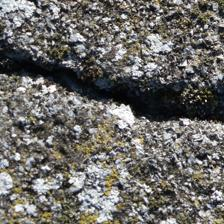Crack: (2, 19, 217, 114)
